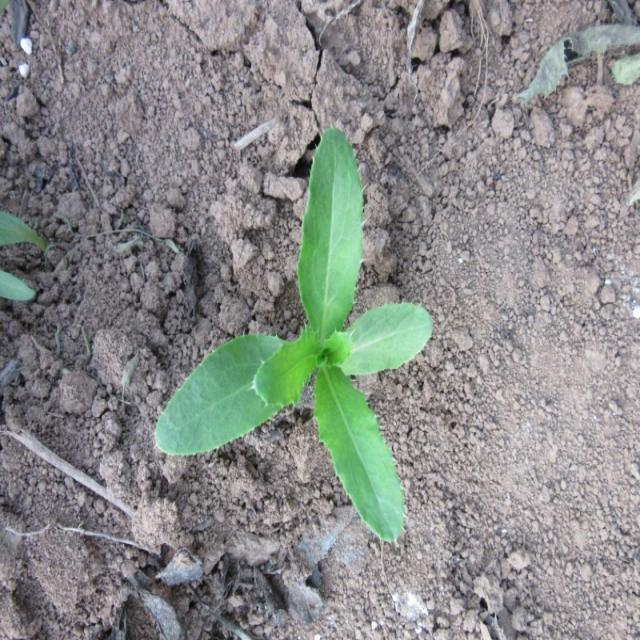cs: (155, 120, 437, 550)
